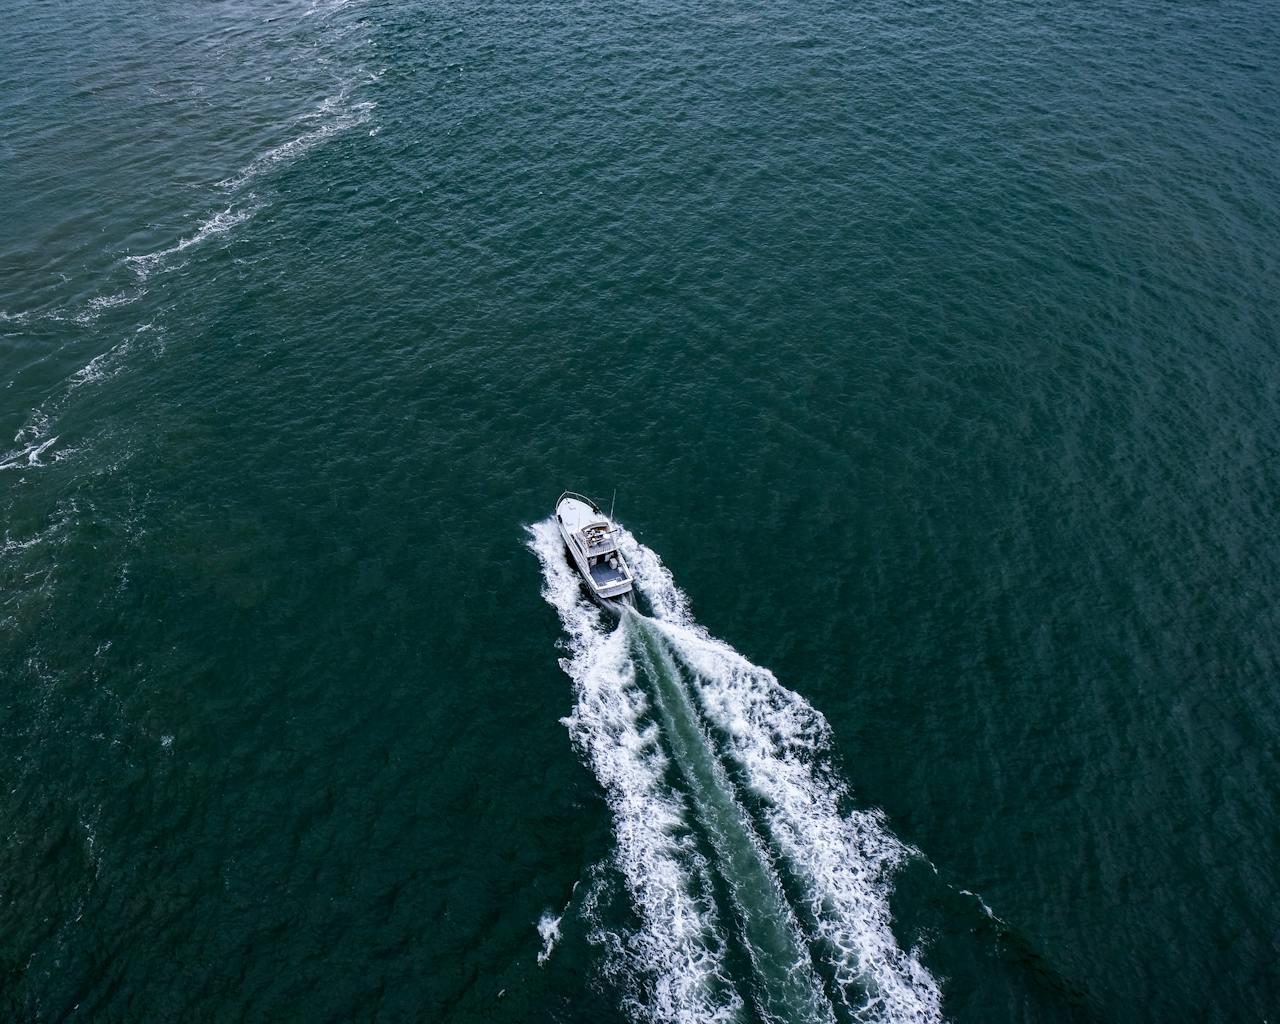boat: (520, 470, 664, 618)
